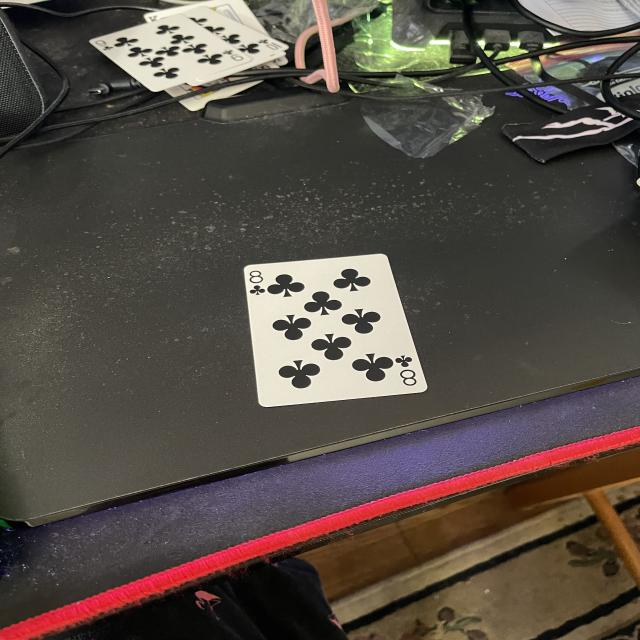8 of clubs: (218, 228, 456, 430)
